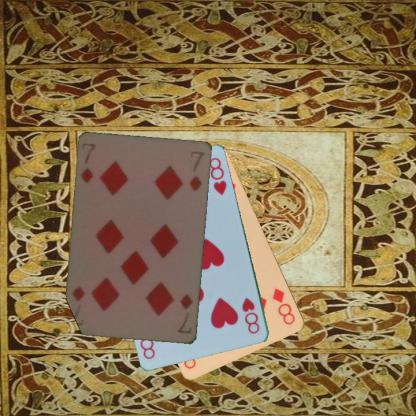7d: (175, 291, 195, 335), (78, 140, 97, 185)
8d: (270, 286, 297, 326)
8h: (239, 294, 261, 336)
